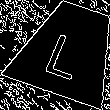L_N: (43, 21, 94, 79)
